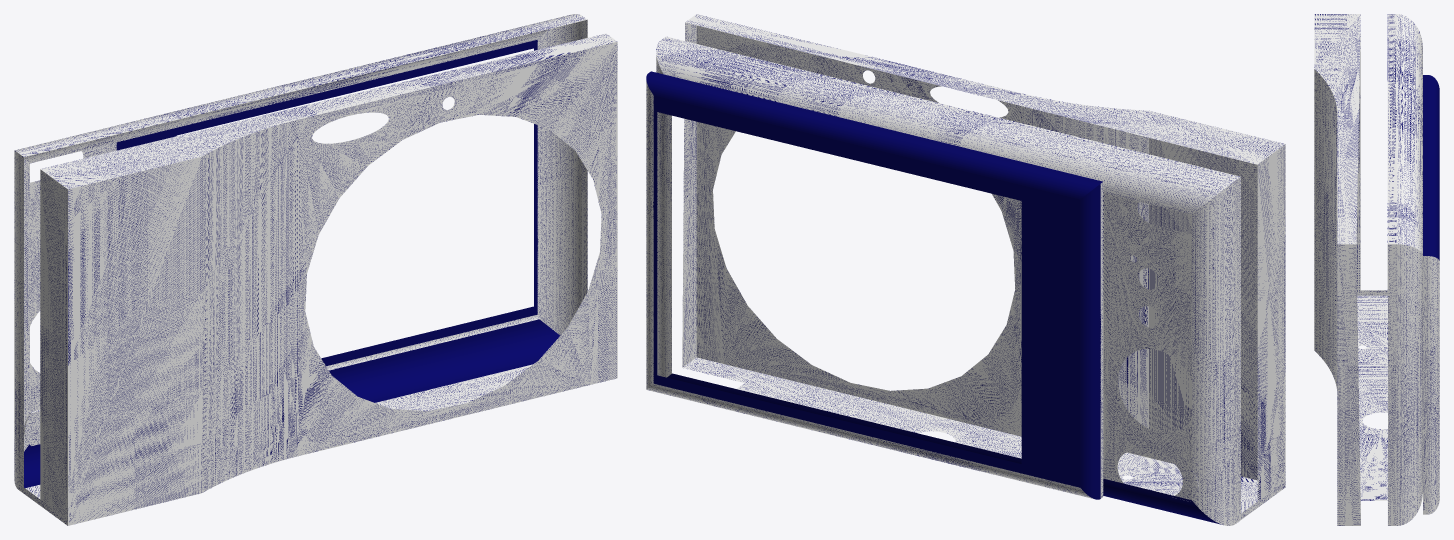
File: original-124.obj
3 views of the same model, side by side, from view 1: azimuth 30°, elevation 25°; view 2: azimuth 150°, elevation 25°; view 3: azimuth 270°, elevation 25° (orthographic). The views are drawn at different scales.
Parts seen in each view (by area): view 1: mesh235/mesh235-geometry/material_2#mesh235-geometry; view 2: mesh235/mesh235-geometry/material_2#mesh235-geometry; view 3: mesh235/mesh235-geometry/material_2#mesh235-geometry.
Boxes of the visible parts, x1,y1,x2,y2 form: mesh235/mesh235-geometry/material_2#mesh235-geometry: (14,14,617,525); mesh235/mesh235-geometry/material_2#mesh235-geometry: (646,14,1285,525); mesh235/mesh235-geometry/material_2#mesh235-geometry: (1314,14,1439,525).
Bounding box in the file's own units: 1.72 × 0.9823 × 0.3964.
